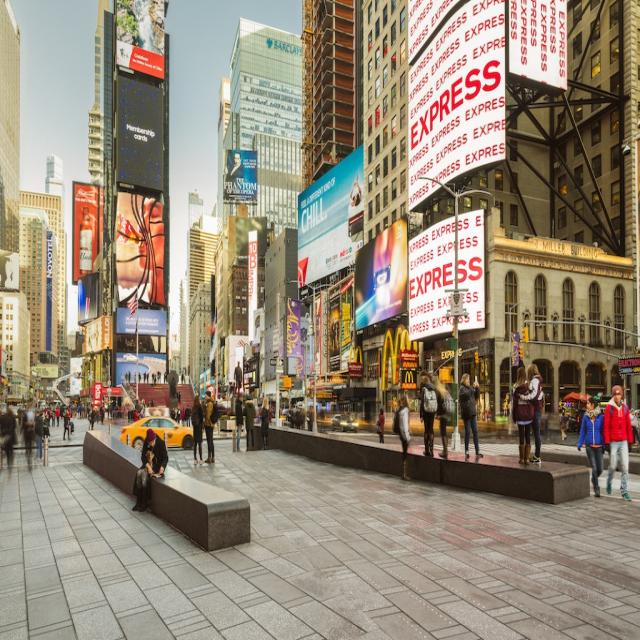body: (132, 190, 170, 314), (602, 384, 634, 502), (1, 399, 107, 430), (131, 427, 169, 513), (576, 397, 607, 498), (520, 364, 544, 466), (510, 365, 534, 465), (458, 372, 484, 459), (430, 375, 456, 458), (390, 394, 412, 482), (416, 374, 439, 458), (203, 390, 221, 466), (190, 390, 206, 466), (223, 149, 246, 201), (1, 407, 18, 468), (288, 400, 318, 433), (482, 389, 512, 422), (18, 412, 34, 470), (242, 394, 258, 452), (258, 395, 272, 451), (345, 171, 363, 209), (234, 390, 244, 452), (626, 405, 640, 446), (34, 409, 44, 460), (233, 356, 244, 395), (313, 302, 319, 366), (328, 315, 339, 349), (376, 408, 386, 445), (628, 407, 638, 444), (61, 408, 72, 441), (558, 412, 568, 442), (168, 376, 178, 401), (42, 412, 50, 443), (184, 404, 192, 427), (349, 318, 355, 344), (132, 406, 140, 424), (144, 397, 156, 408), (54, 406, 60, 427), (170, 406, 176, 421), (51, 409, 56, 427), (181, 406, 185, 427), (174, 407, 178, 426), (177, 406, 181, 424), (142, 370, 147, 383), (164, 370, 168, 384), (128, 369, 132, 383), (157, 370, 161, 384), (181, 372, 185, 384), (133, 371, 137, 383), (124, 371, 128, 383), (146, 372, 150, 383), (138, 372, 141, 384), (154, 374, 157, 386), (178, 391, 181, 403), (151, 373, 155, 379), (176, 391, 178, 402)
